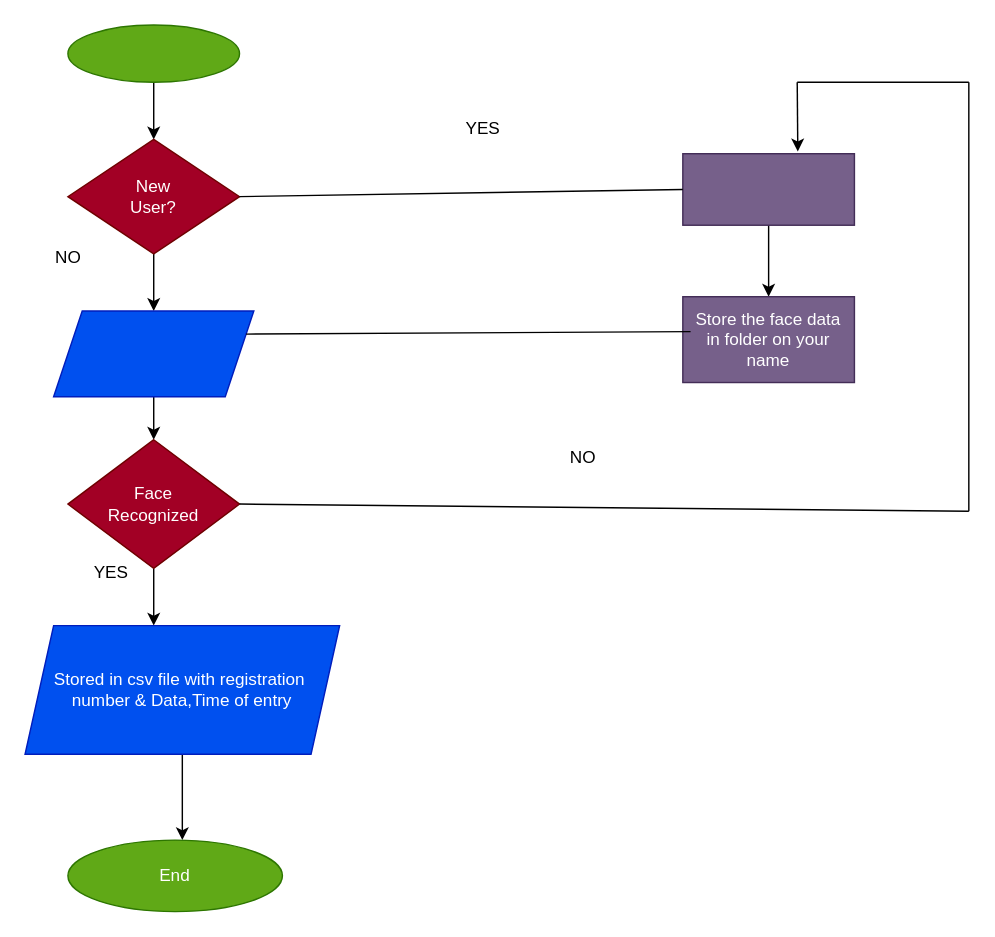
Image size: 995x937. Some labels were removed from this diagram. The shapes that lost their labels are listed below. From the top down, each one's centre as x and y in pixels, then its label:
At pixel 153 53: "Start".
At pixel 767 188: "Give your photograph".
At pixel 153 353: "Recognize the Face".
